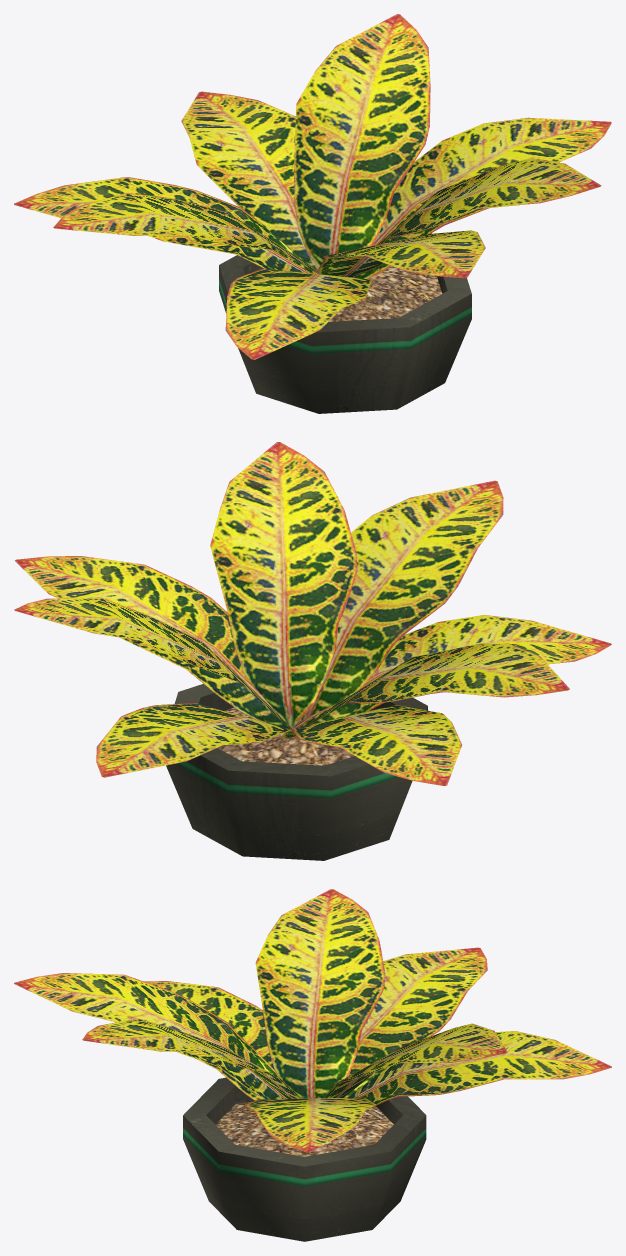
The model's file is Plant_A.fbx.
The picture shows the model from 3 angles, top to bottom: view 1: azimuth 30°, elevation 25°; view 2: azimuth 150°, elevation 25°; view 3: azimuth 270°, elevation 25°; orthographic projection. The views are drawn at different scales.
Parts seen in each view (by area): view 1: polySurface19, pCylinder1; view 2: polySurface19, pCylinder1; view 3: polySurface19, pCylinder1.
Boxes of the visible parts, box(x1,y1,x2,y2) form: polySurface19: box(14, 14, 611, 359); pCylinder1: box(219, 255, 471, 413); polySurface19: box(14, 442, 611, 785); pCylinder1: box(166, 684, 427, 860); polySurface19: box(14, 889, 611, 1152); pCylinder1: box(183, 1077, 426, 1241).
Bounding box in the file's own units: 4.9 × 2.06 × 5.01.
